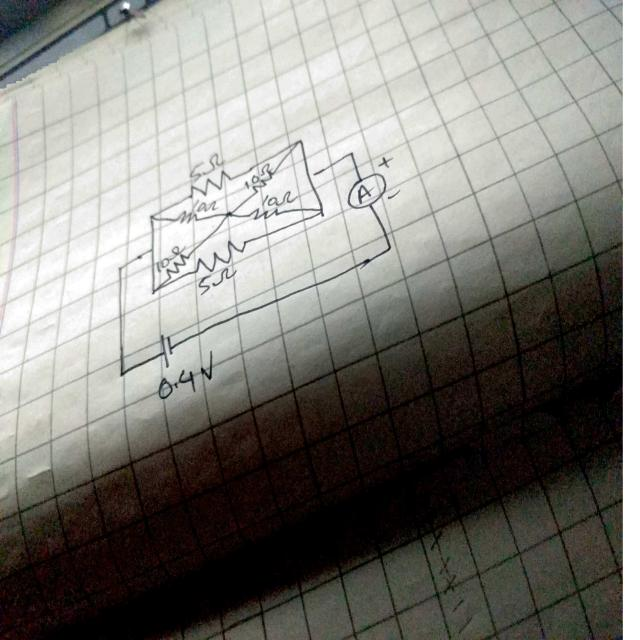junction: (293, 134, 305, 149), (147, 244, 159, 259), (384, 239, 396, 253), (345, 148, 357, 162), (148, 283, 160, 297), (304, 170, 315, 184), (314, 205, 325, 219), (147, 210, 158, 224), (223, 208, 234, 222), (116, 262, 124, 274), (118, 368, 126, 380)
resistor: (196, 239, 249, 274), (187, 169, 234, 200), (251, 169, 276, 196), (165, 251, 188, 279), (247, 205, 280, 223), (175, 209, 199, 224)
source: (158, 331, 174, 371)
text: (154, 349, 216, 401), (198, 266, 238, 298), (189, 151, 221, 182), (156, 243, 185, 273), (243, 164, 269, 190), (263, 188, 297, 207), (192, 196, 218, 214)
